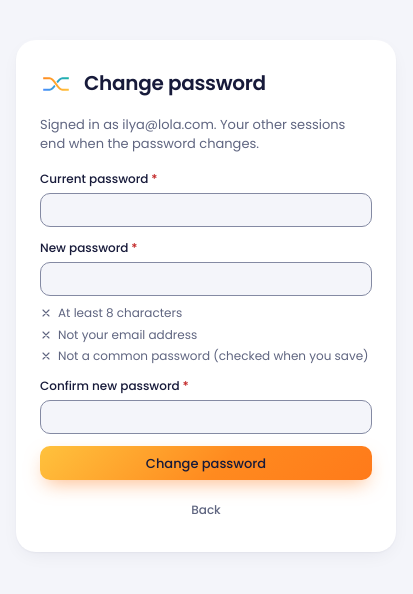
it: Change password › shows the server’s refusal (a wrong current password)
This screenshot has width=413, height=594.
Expected: the heading "Change password" is shown, [84, 70, 266, 98]
Type "wrong-password-1" into the password field labelled "Current password *" at (206, 210), box [40, 193, 372, 227]
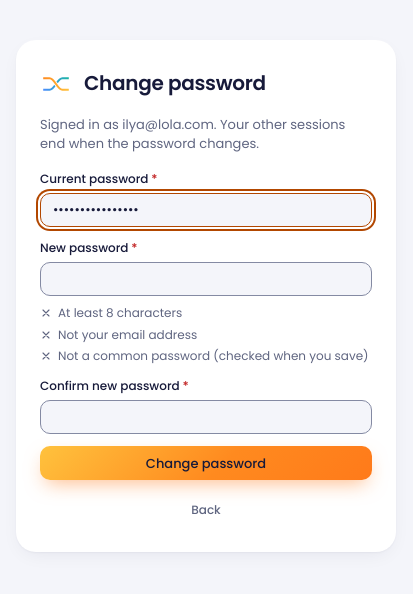
Type "my-own-quiet-harbour-9" into the password field labelled "New password *" at (206, 280), box [40, 262, 372, 296]
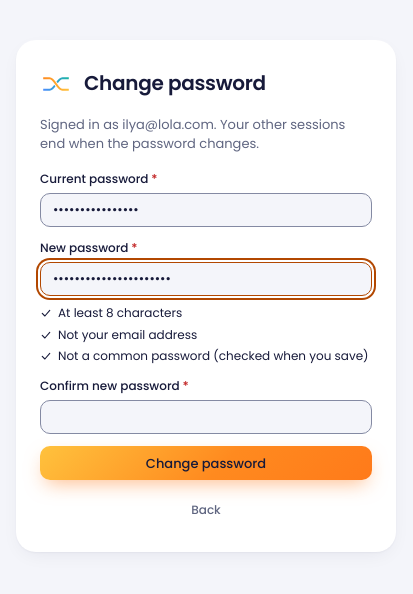
Type "my-own-quiet-harbour-9" into the password field labelled "Confirm new password *" at (206, 417), box [40, 400, 372, 434]
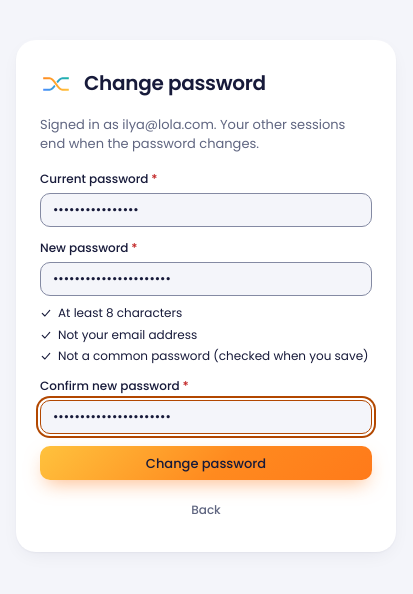
Click the button "Change password" at (206, 463), box [40, 446, 372, 480]
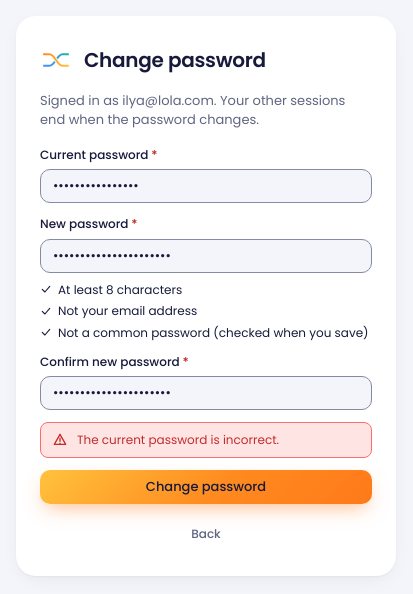
Now the text "The current password is incorrect." is shown, box [77, 431, 279, 448]
